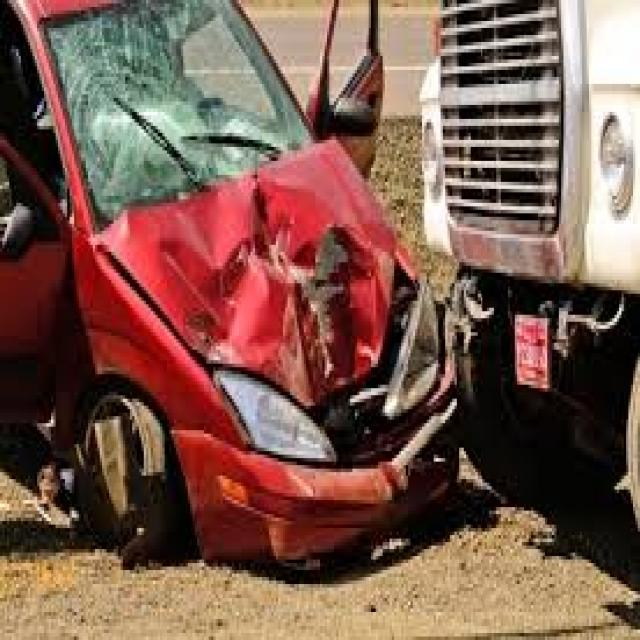severe: (5, 0, 475, 556)
